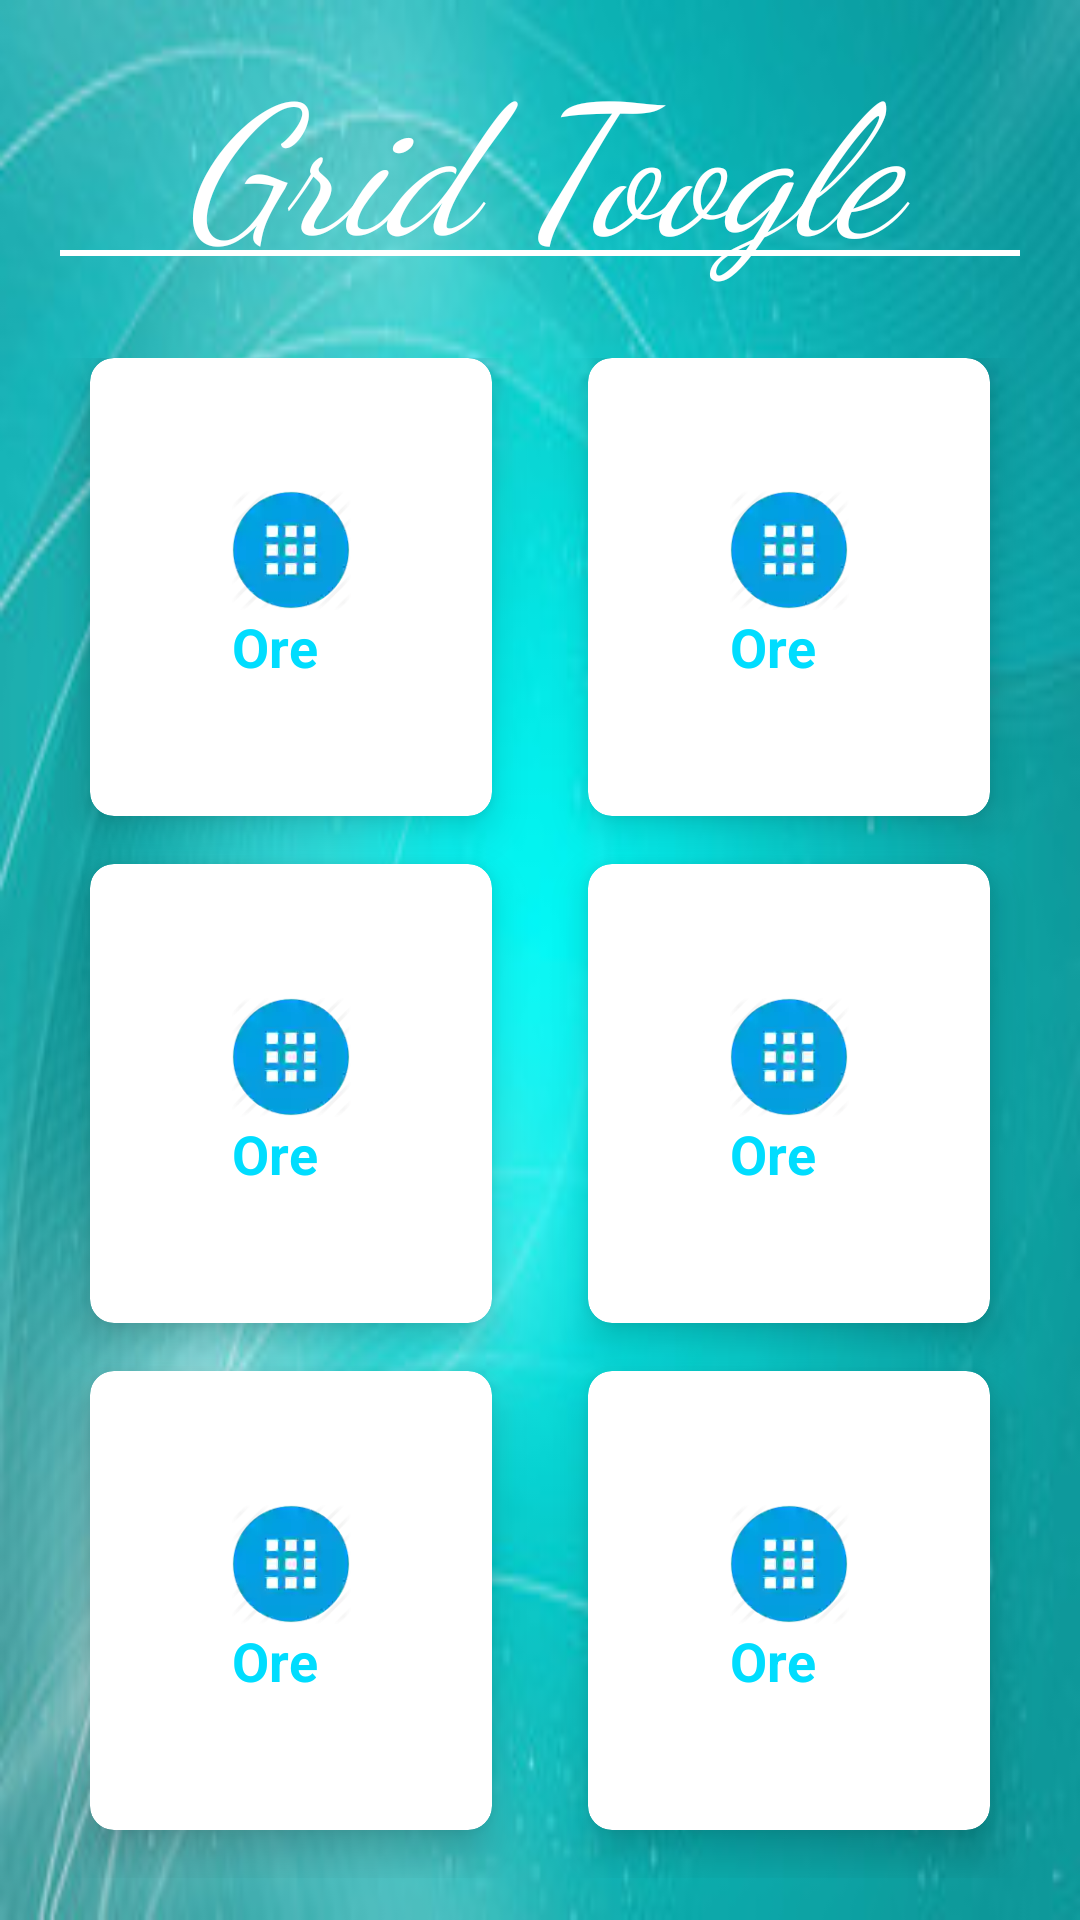

Where icons sit on this 1080 x 1920 app screen, as (x1, y1, x2, y2):
grid: (233, 492, 349, 608), (731, 492, 847, 608), (233, 999, 349, 1115), (731, 999, 847, 1115), (233, 1506, 349, 1622), (731, 1506, 847, 1622)
